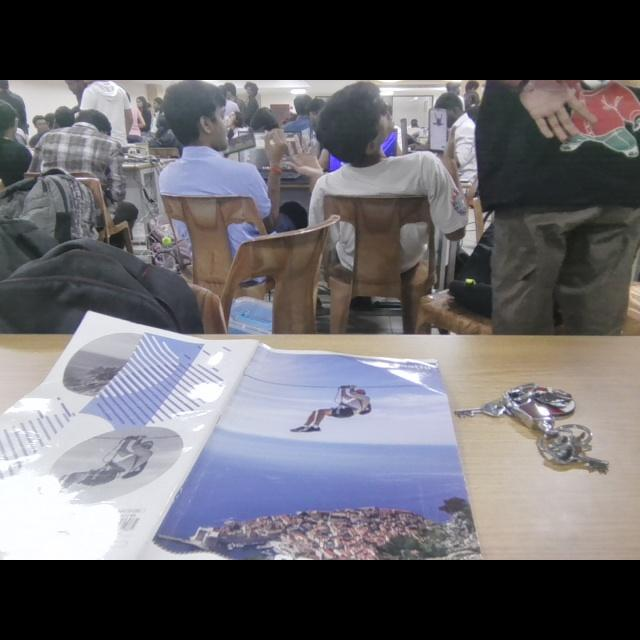keys: (449, 373, 617, 477)
